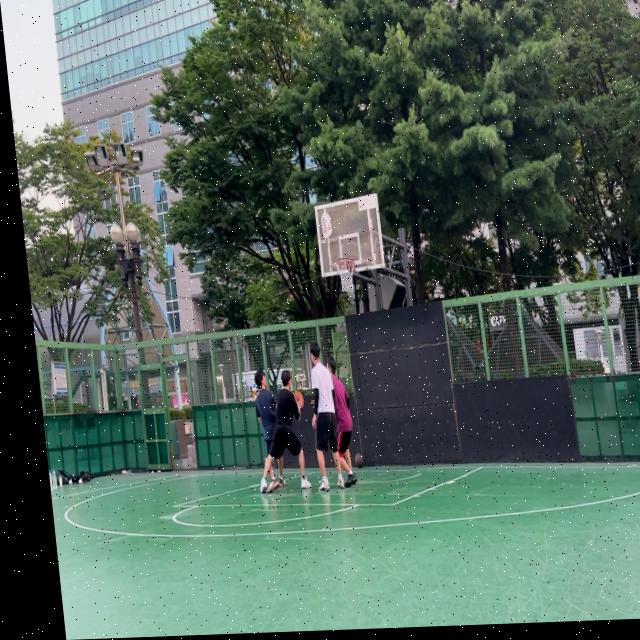basketball: (354, 453, 366, 469), (293, 390, 304, 403)
hoop: (334, 255, 358, 293)
